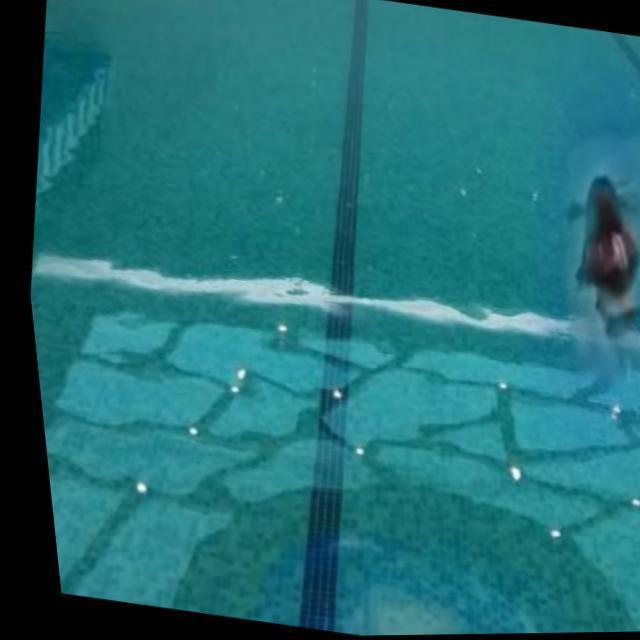swimming: (554, 171, 640, 346)
